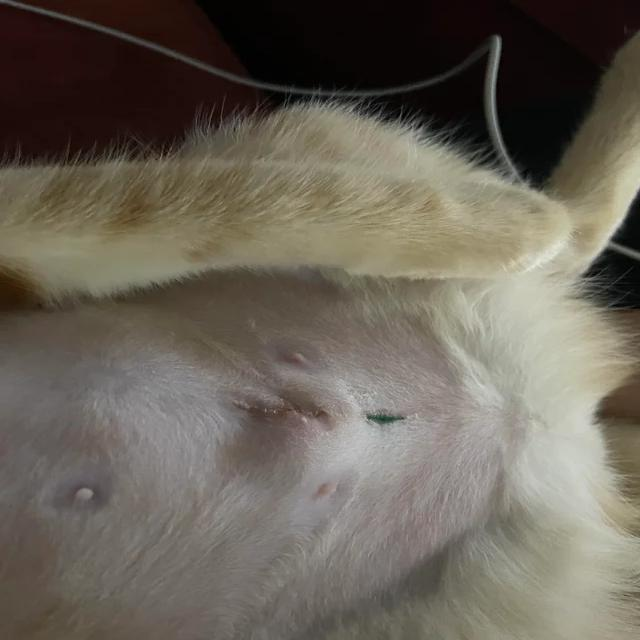cat-lump-and-bump: (65, 480, 105, 516), (309, 478, 346, 505), (284, 349, 316, 371)
